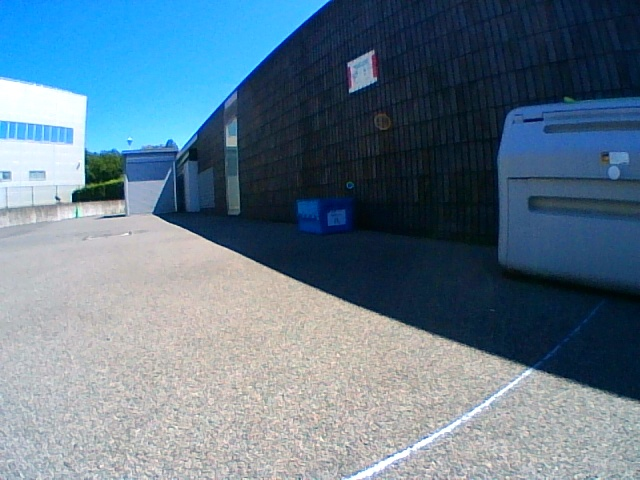blue_box: (297, 198, 351, 233)
tag: (329, 210, 344, 225)
